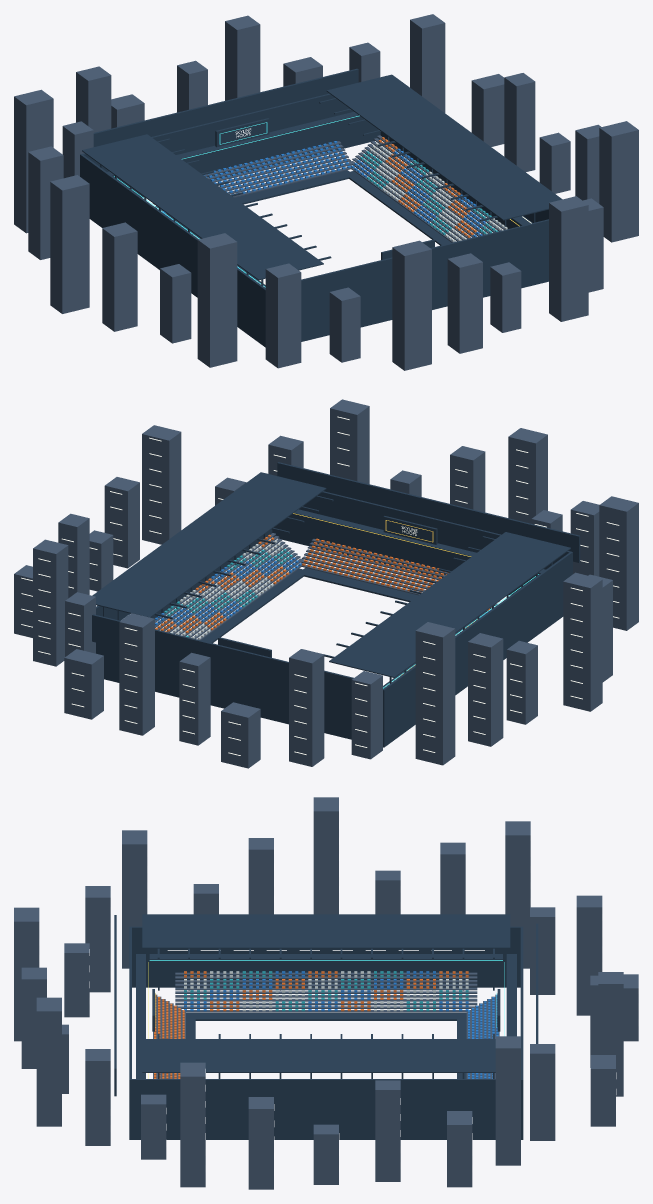
The model's file is hoops-arena.glb.
3 views of the same model, one above another, from view 1: azimuth 30°, elevation 25°; view 2: azimuth 150°, elevation 25°; view 3: azimuth 270°, elevation 25° (orthographic). The views are drawn at different scales.
Visible parts, largest first — view 1: Hoops_Bowl_Concourse, Hoops_Bowl_Structural_Navy, Hoops_Bowl_Blue_Seats, Hoops_Bowl_Cream_Seats, Hoops_Bowl_Teal_Seats, Hoops_Bowl_Orange_Seats; view 2: Hoops_Bowl_Concourse, Hoops_Bowl_Structural_Navy, Hoops_Bowl_Orange_Seats, Hoops_Bowl_Warm_Light, Hoops_Bowl_Blue_Seats, Hoops_Bowl_Cream_Seats, Hoops_Bowl_Teal_Seats; view 3: Hoops_Bowl_Concourse, Hoops_Bowl_Structural_Navy, Hoops_Bowl_Orange_Seats, Hoops_Bowl_Blue_Seats, Hoops_Bowl_Teal_Seats, Hoops_Bowl_Cream_Seats, Hoops_Bowl_Warm_Light.
Part boxes in pixels (<box>): Hoops_Bowl_Concourse: <box>14,14,638,370</box>; Hoops_Bowl_Structural_Navy: <box>80,68,562,347</box>; Hoops_Bowl_Blue_Seats: <box>161,141,485,268</box>; Hoops_Bowl_Cream_Seats: <box>193,142,507,286</box>; Hoops_Bowl_Teal_Seats: <box>175,151,498,279</box>; Hoops_Bowl_Orange_Seats: <box>378,137,476,237</box>; Hoops_Bowl_Concourse: <box>14,399,638,768</box>; Hoops_Bowl_Structural_Navy: <box>92,462,580,747</box>; Hoops_Bowl_Orange_Seats: <box>155,534,491,675</box>; Hoops_Bowl_Warm_Light: <box>21,416,619,755</box>; Hoops_Bowl_Blue_Seats: <box>155,557,490,625</box>; Hoops_Bowl_Cream_Seats: <box>170,540,462,686</box>; Hoops_Bowl_Teal_Seats: <box>164,549,385,688</box>; Hoops_Bowl_Concourse: <box>14,797,638,1189</box>; Hoops_Bowl_Structural_Navy: <box>114,914,538,1139</box>; Hoops_Bowl_Orange_Seats: <box>154,971,468,1078</box>; Hoops_Bowl_Blue_Seats: <box>184,971,498,1078</box>; Hoops_Bowl_Teal_Seats: <box>184,971,468,1011</box>; Hoops_Bowl_Cream_Seats: <box>184,971,468,1011</box>; Hoops_Bowl_Warm_Light: <box>39,806,638,1175</box>.
Bounding box in the file's own units: 245 × 58.8 × 246.
